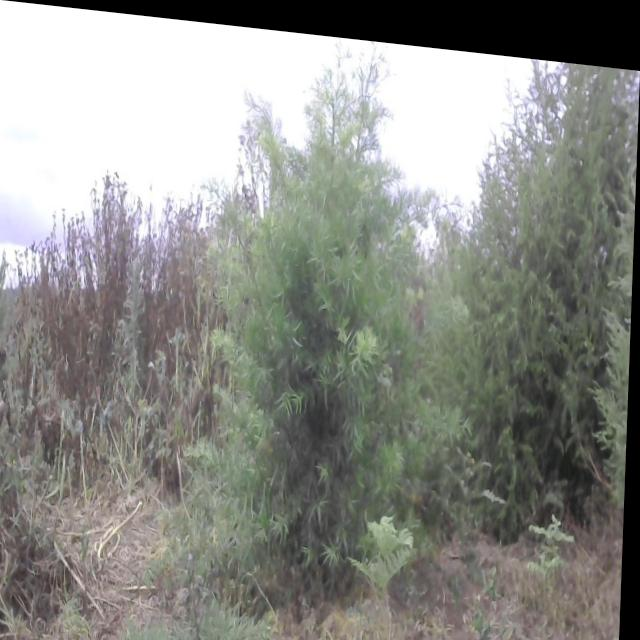Podocarpus falcatus: (192, 20, 424, 618)
cedrus: (435, 41, 640, 545)
